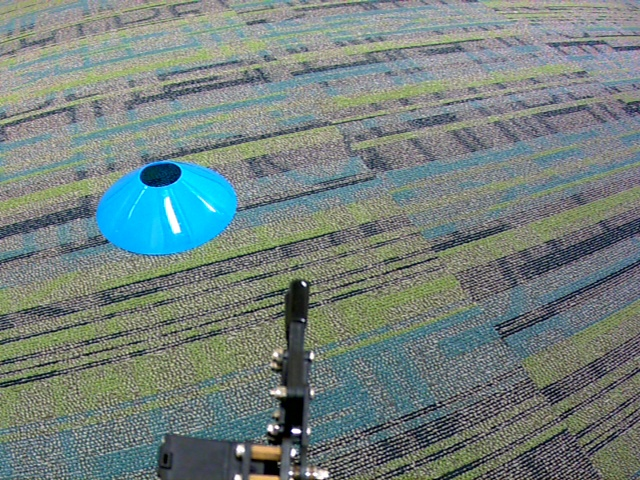cone: (96, 159, 239, 255)
